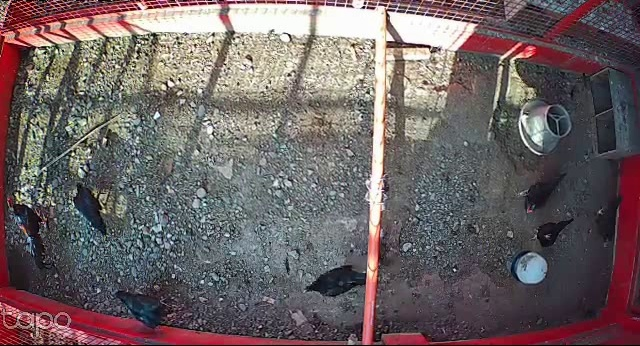Chicken: (114, 285, 177, 332), (301, 260, 369, 298), (514, 173, 567, 215), (73, 182, 109, 237), (595, 196, 624, 249), (530, 218, 574, 247)
Leg_Band_White: (597, 207, 606, 218)
Rooster: (7, 194, 53, 273)
